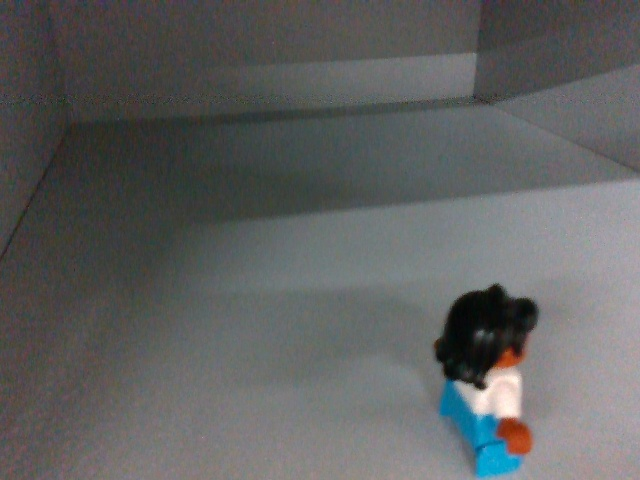people: (432, 283, 537, 480)
